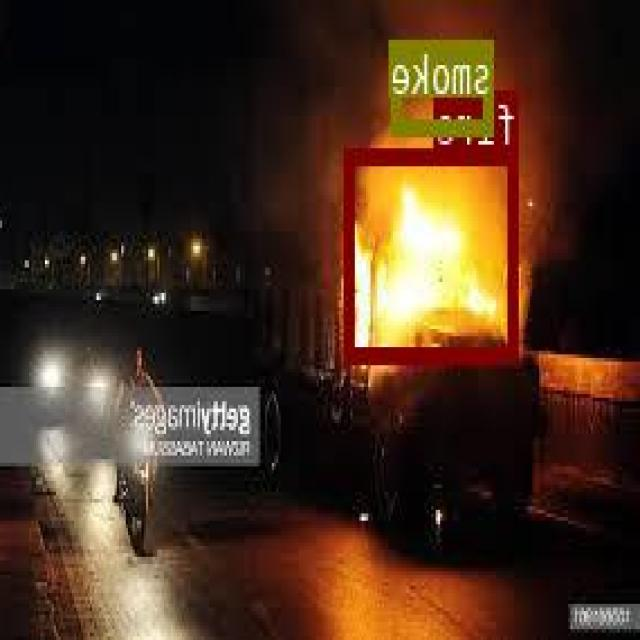fire: (346, 145, 519, 361)
smoke: (395, 38, 494, 131)
